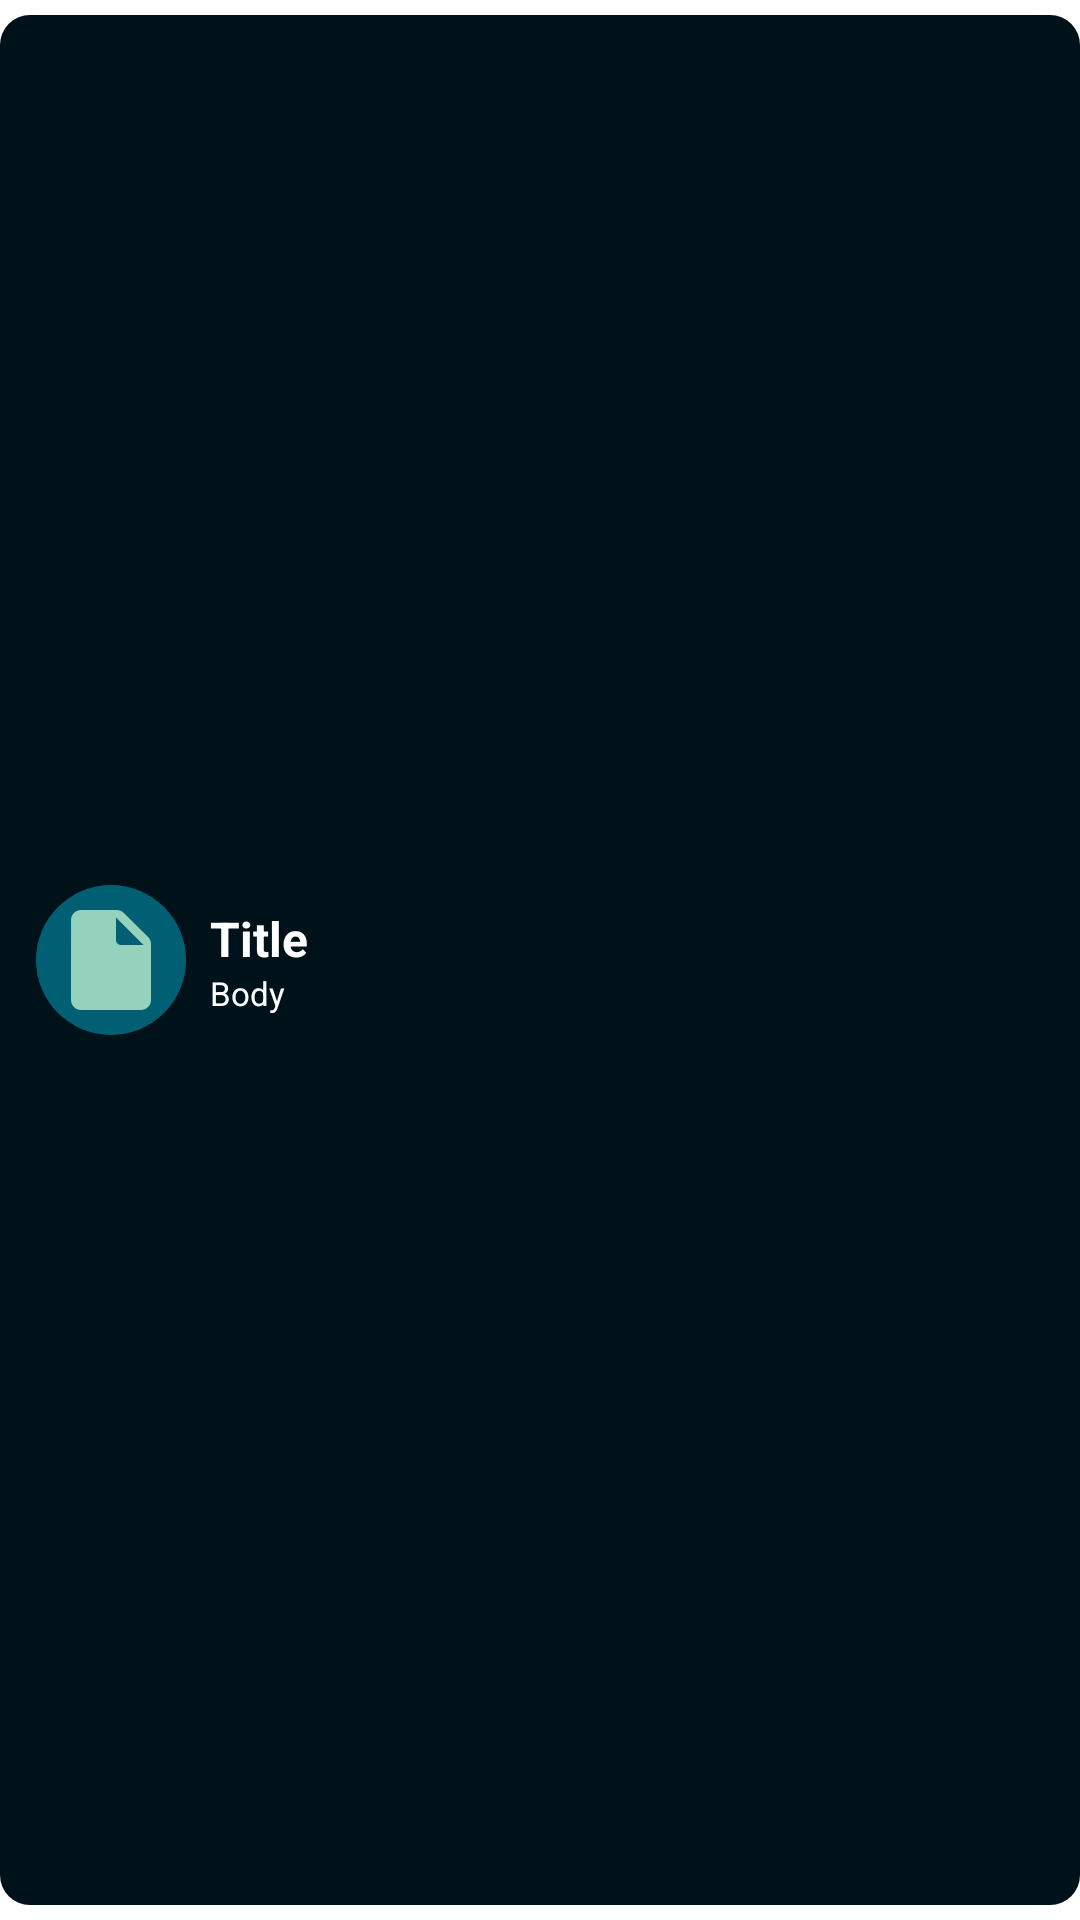

Screen size 1080px×1920px. Icon name, then its center in pixels as (x=x, y=y):
insert drive file: (x=111, y=960)
